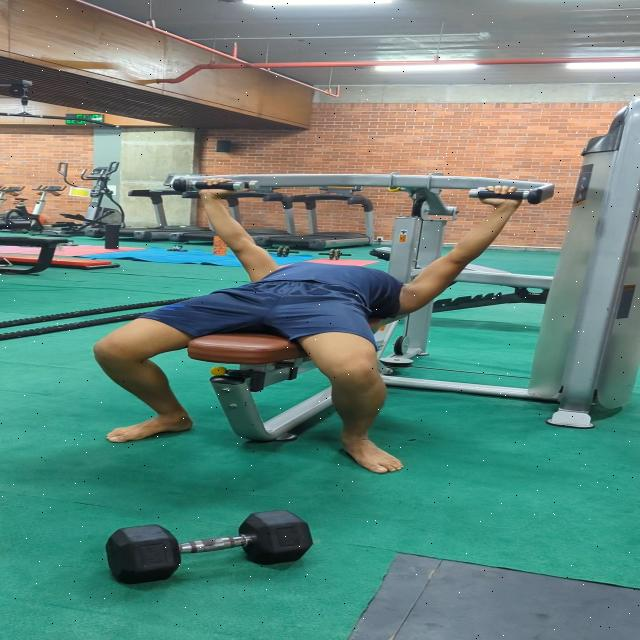Normal_BrenchPress: (22, 164, 561, 479)
